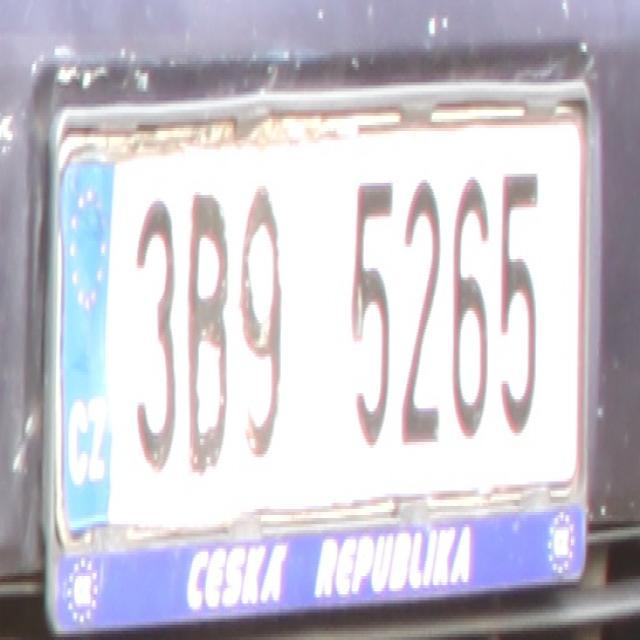2: (400, 177, 441, 448)
3: (133, 198, 179, 472)
5: (350, 174, 398, 448), (499, 168, 538, 432)
6: (452, 170, 488, 446)
9: (238, 188, 284, 472)
B: (184, 192, 229, 476)
